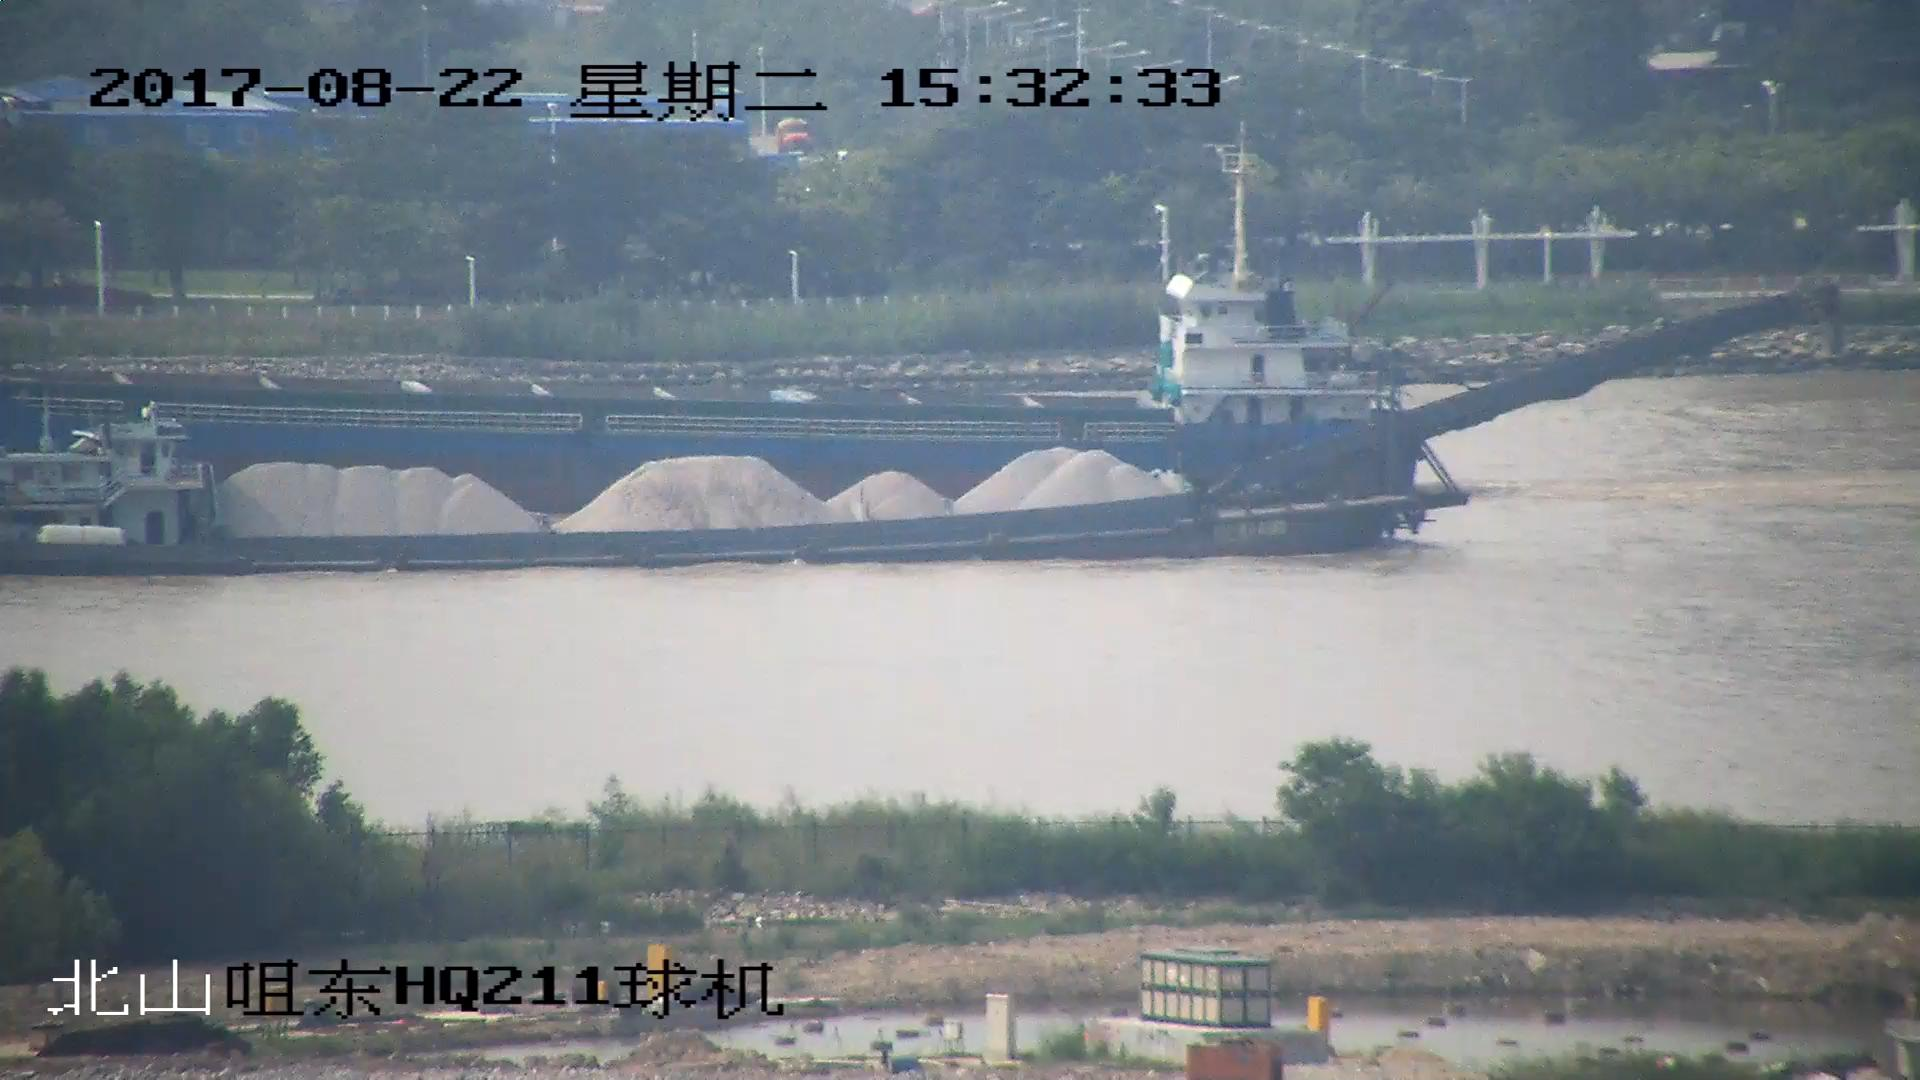bulk cargo carrier: (1, 138, 1433, 503)
ore carrier: (1, 288, 1846, 577)
